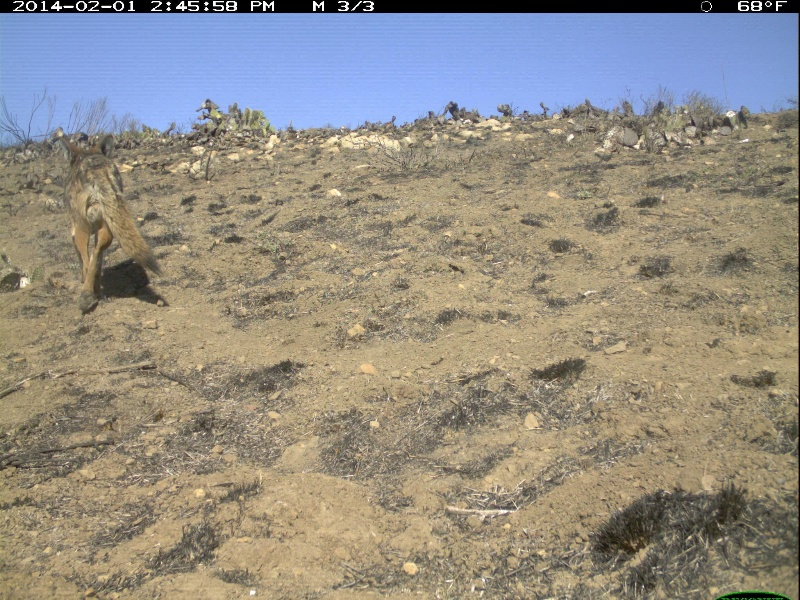coyote: (43, 133, 158, 321)
